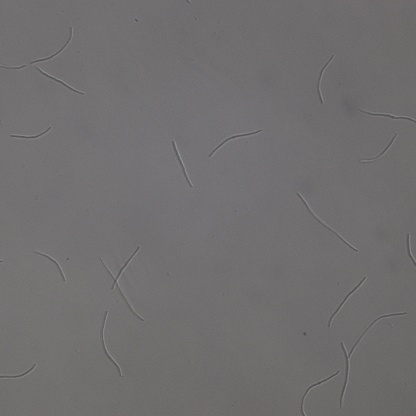Sensitive: (339, 312, 406, 406), (96, 246, 143, 320), (297, 194, 356, 250), (300, 368, 340, 416), (329, 277, 367, 324), (96, 311, 121, 375), (29, 28, 71, 62), (37, 67, 83, 95), (212, 131, 260, 154), (362, 134, 397, 163), (316, 55, 336, 104), (33, 250, 64, 280), (171, 141, 191, 187), (362, 109, 416, 125), (1, 364, 35, 380), (11, 126, 49, 140)
